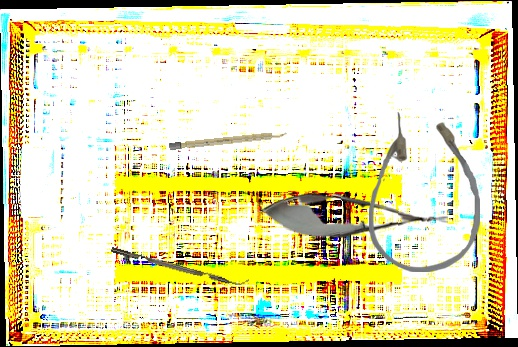Cannula: (369, 112, 480, 272)
Chopper: (110, 240, 250, 291)
Micro Scissor: (261, 188, 449, 244)
Scalpel Handle: (168, 130, 288, 151)
